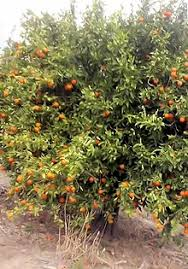orange: (65, 84, 73, 92)
